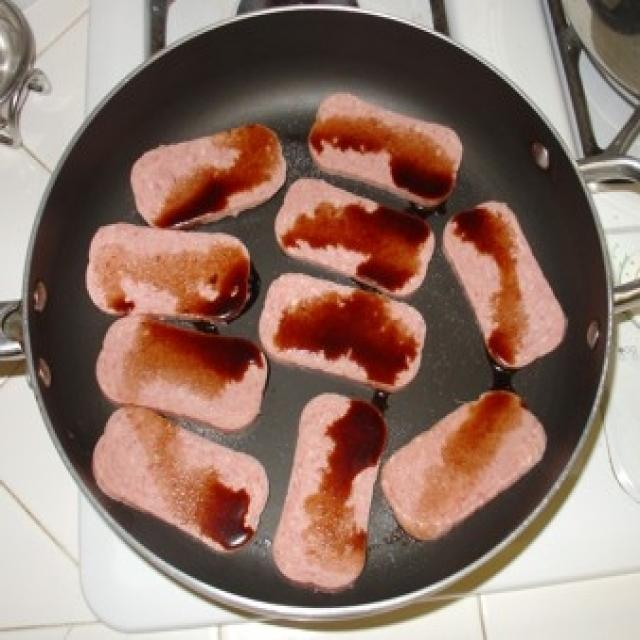寿司卷物: (46, 47, 594, 597)
